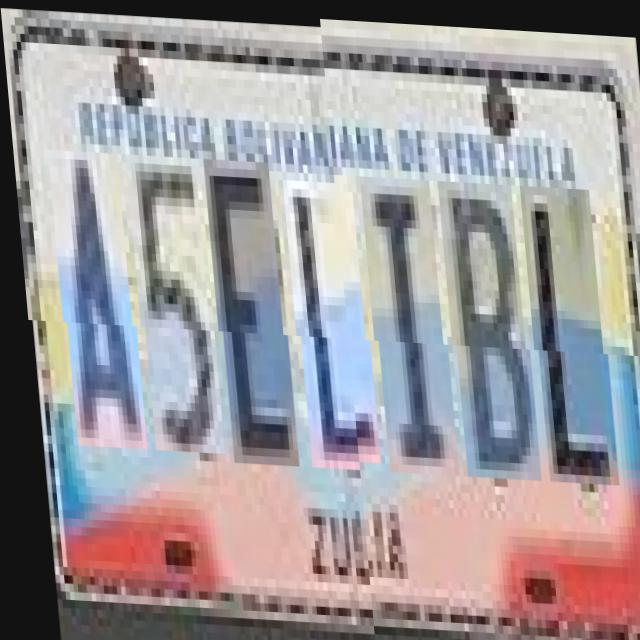5: (127, 153, 217, 452)
A: (49, 150, 139, 448)
B: (440, 184, 534, 483)
E: (205, 156, 291, 464)
I: (362, 180, 452, 480)
L: (522, 188, 612, 487), (284, 177, 373, 467)
